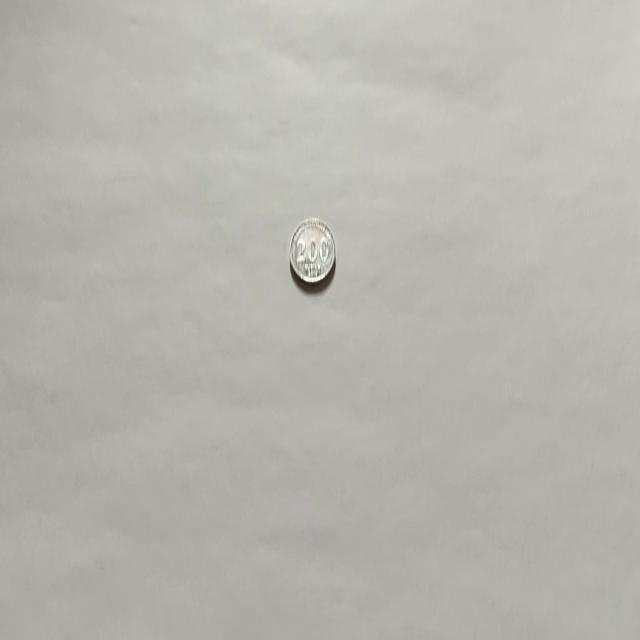dua ratus rupiah: (288, 216, 336, 286)
